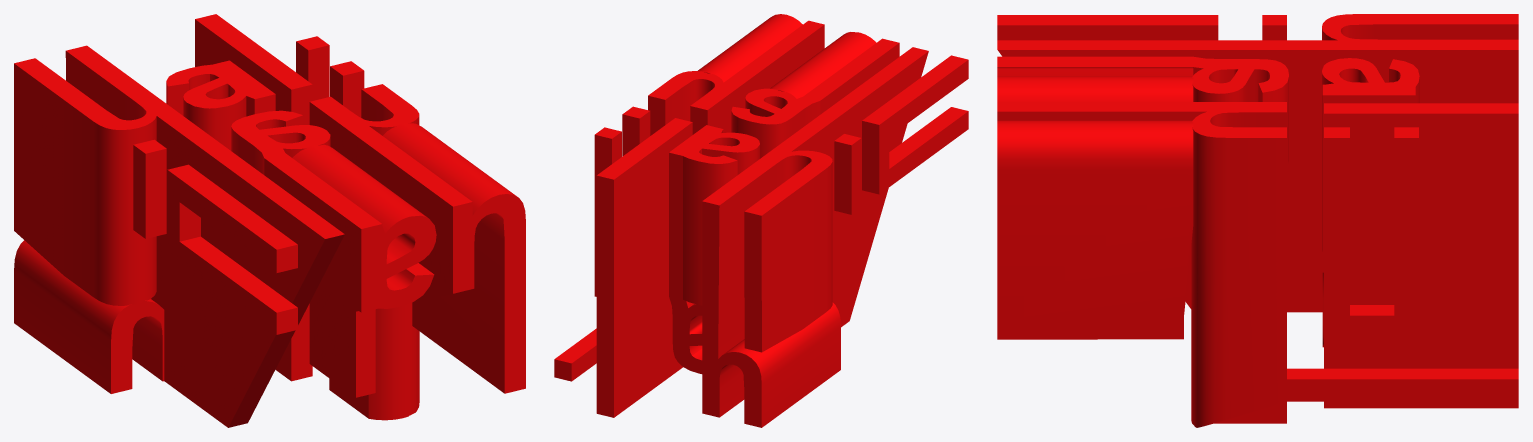
File: ual-2.dae
3 renders of one model, left to right at view 1: azimuth 30°, elevation 25°; view 2: azimuth 150°, elevation 25°; view 3: azimuth 270°, elevation 25°, orthographic. The views are drawn at different scales.
Visible parts, largest first — view 1: group_0 (×14); view 2: group_0 (×12); view 3: group_0 (×10).
Boxes of the visible parts, x1,y1,x2,y2 form: group_0 (×14): (14, 14, 525, 427); group_0 (×12): (554, 14, 968, 427); group_0 (×10): (997, 14, 1518, 427).
Size of the model in its own units: 8.92 by 15.7 by 9.86.
